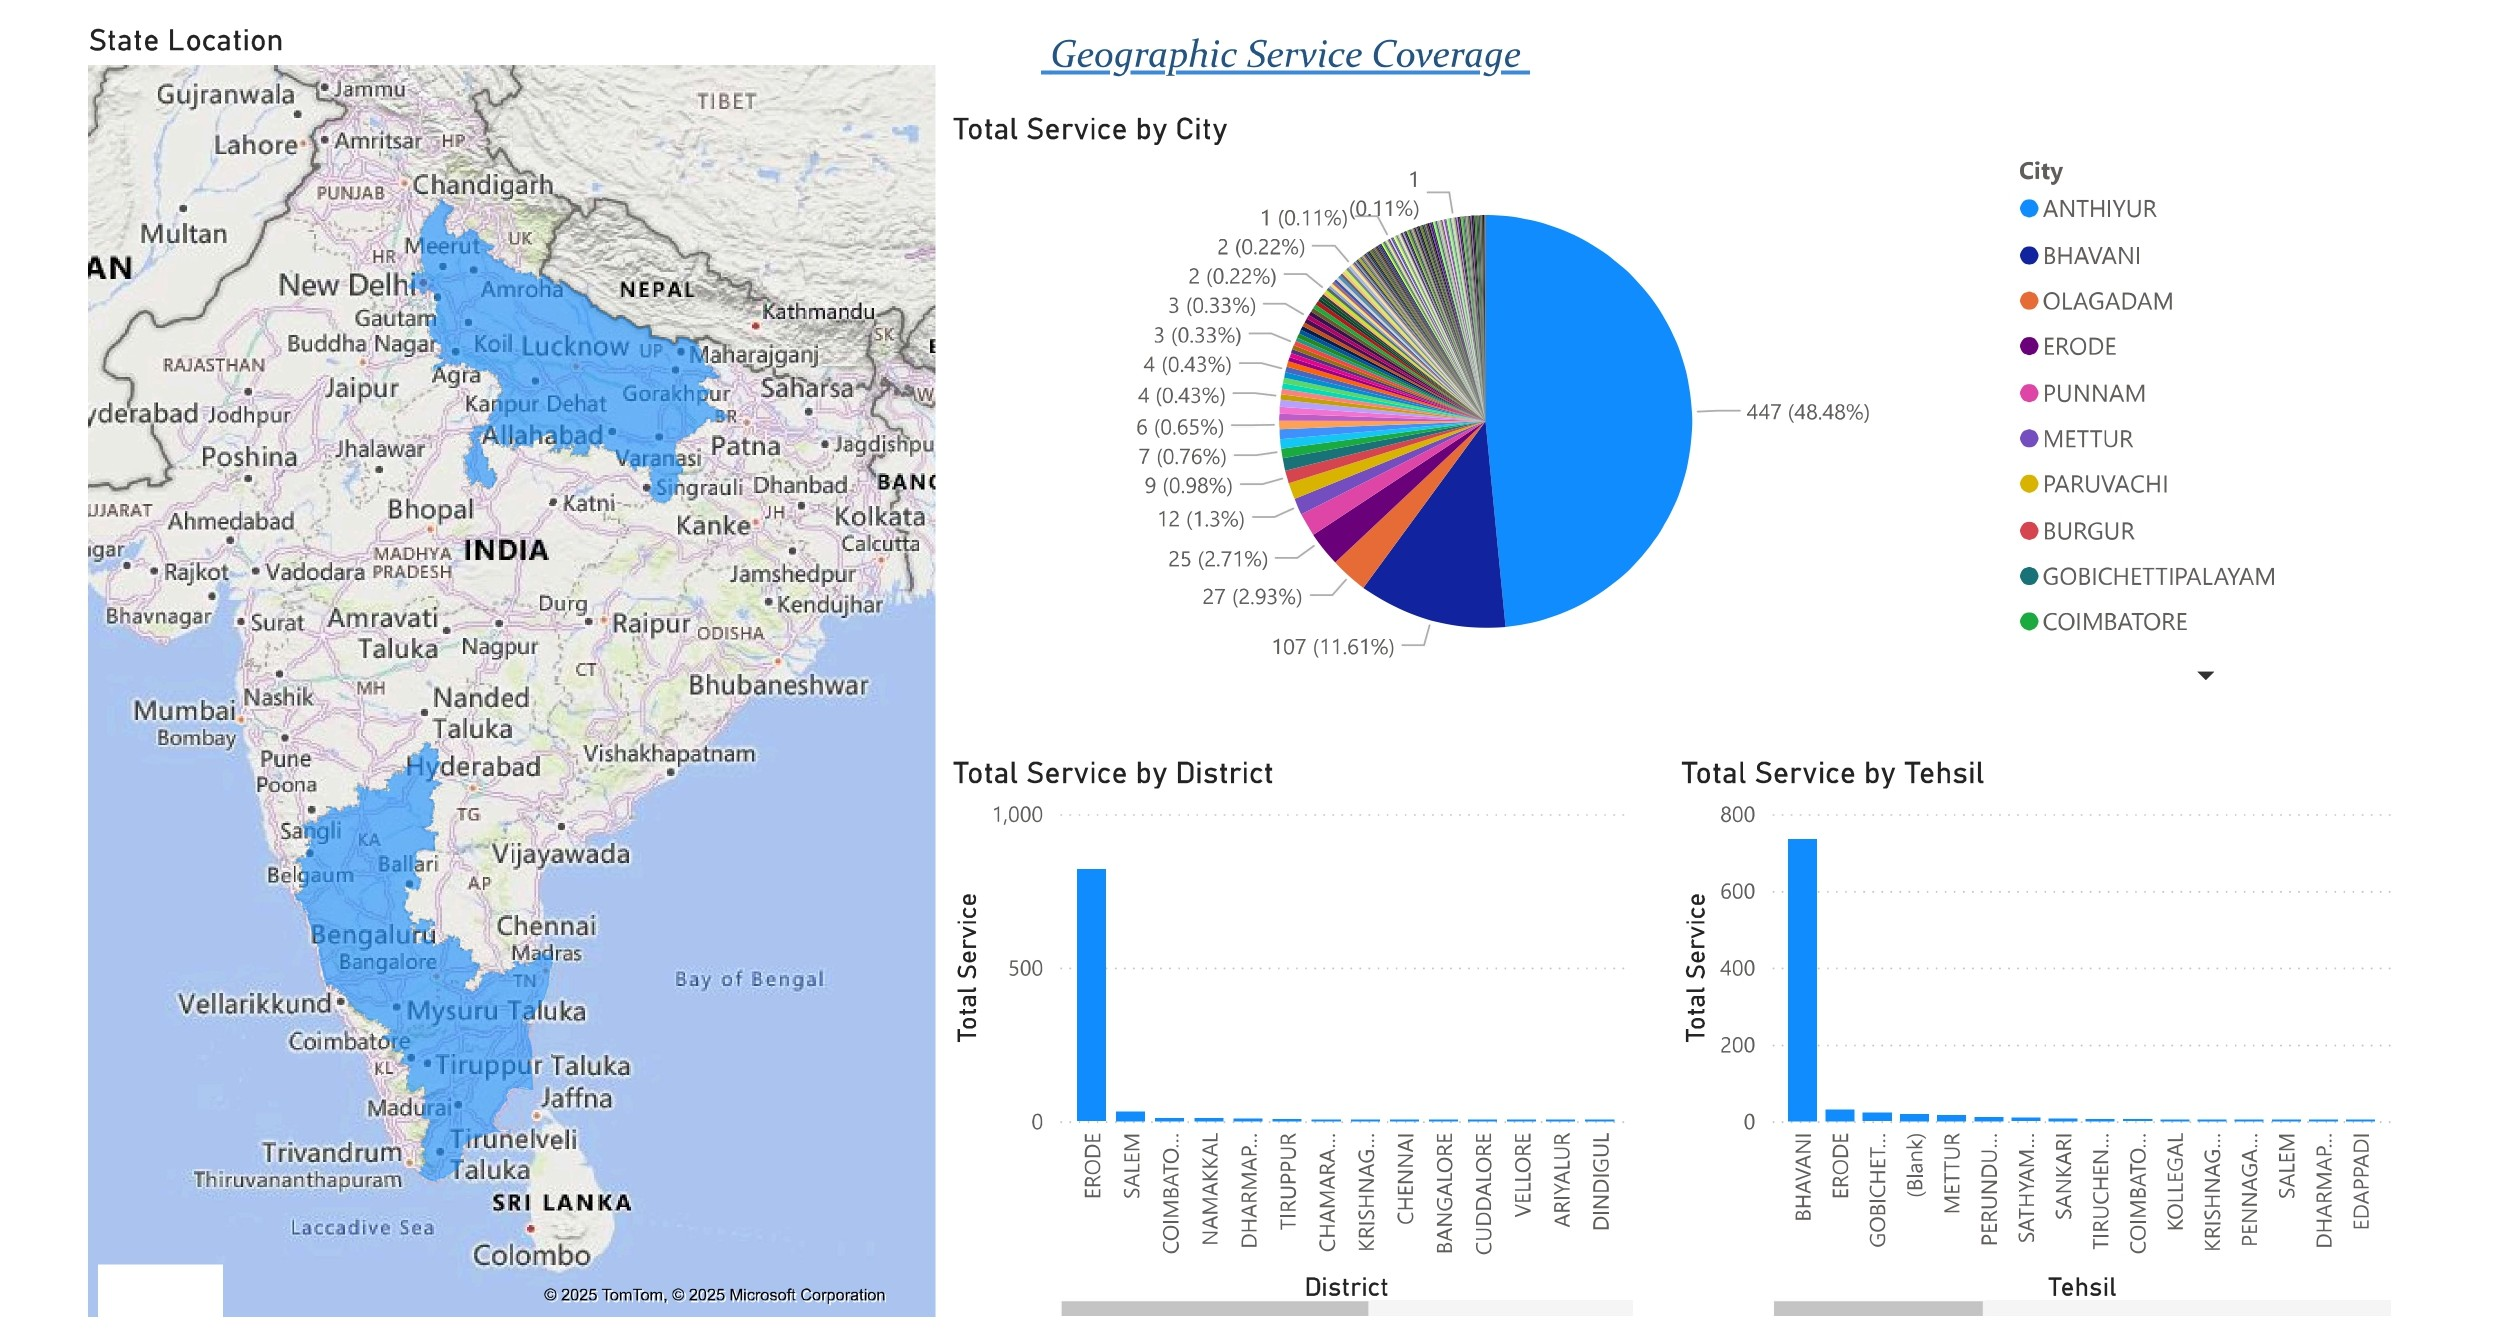

Layout of this report page (visuals, bound fields, positions):
{"tool":"powerbi","page":{"name":"Geographic_Service","canvas":[1280,720],"ordinal":1},"visuals":[{"type":"filledMap","fields":{"Category":["output - 2024-08-12T152346 157.State"]},"box":[0,0,476.2,720],"z":0},{"type":"textbox","box":[525,0,325,35],"z":1000},{"type":"pieChart","fields":{"Category":["output - 2024-08-12T152346 157.City"],"Y":["Count(output - 2024-08-12T152346 157.License Number)"]},"box":[476.7,48.3,803.3,325],"z":2000},{"type":"columnChart","fields":{"Category":["output - 2024-08-12T152346 157.District"],"Y":["Count(output - 2024-08-12T152346 157.License Number)"]},"box":[476.7,405,385,315],"z":3000},{"type":"clusteredColumnChart","fields":{"Category":["output - 2024-08-12T152346 157.Tehsil"],"Y":["Count(output - 2024-08-12T152346 157.License Number)"]},"box":[878.3,405,401.7,315],"z":4000}]}

Visuals, with their boxes on the page's 1280x720 design canvas (x1, y1, x2, y2). These are canvas units, not pixel positions in the 2497x1341 screenshot, which may show the page scaled, cropped or inside an application window:
filledMap - output - 2024-08-12T152346 157.State: <box>0,0,476,720</box>
textbox: <box>525,0,850,35</box>
pieChart - output - 2024-08-12T152346 157.City x Count(output - 2024-08-12T152346 157.License Number): <box>477,48,1280,373</box>
columnChart - output - 2024-08-12T152346 157.District x Count(output - 2024-08-12T152346 157.License Number): <box>477,405,862,720</box>
clusteredColumnChart - output - 2024-08-12T152346 157.Tehsil x Count(output - 2024-08-12T152346 157.License Number): <box>878,405,1280,720</box>
